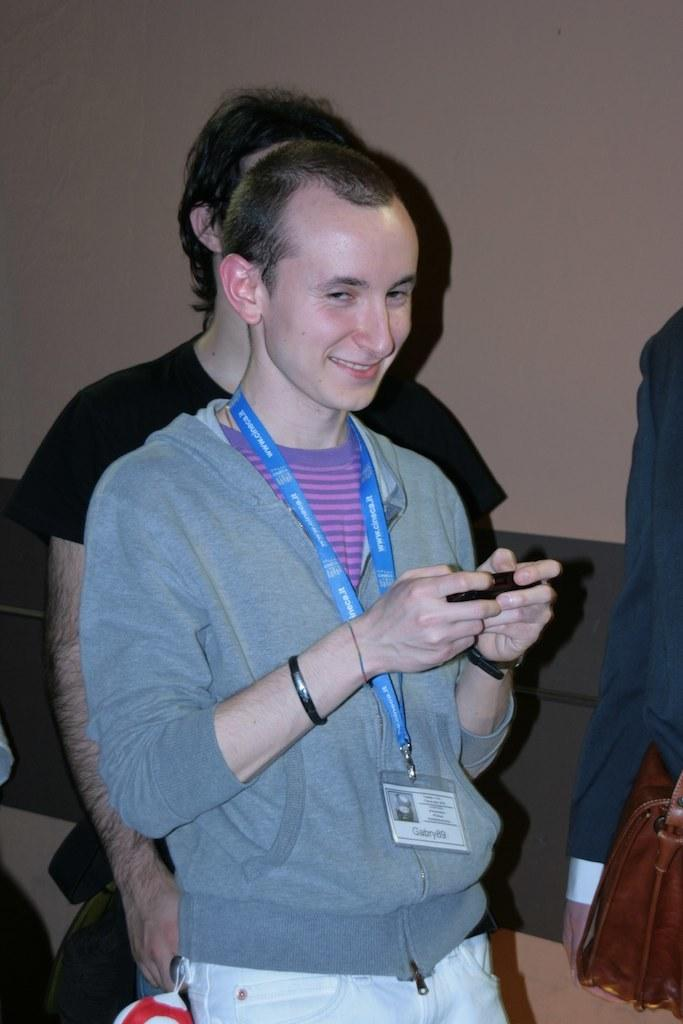no_helmet: (244, 136, 398, 250)
none: (185, 394, 450, 904)
